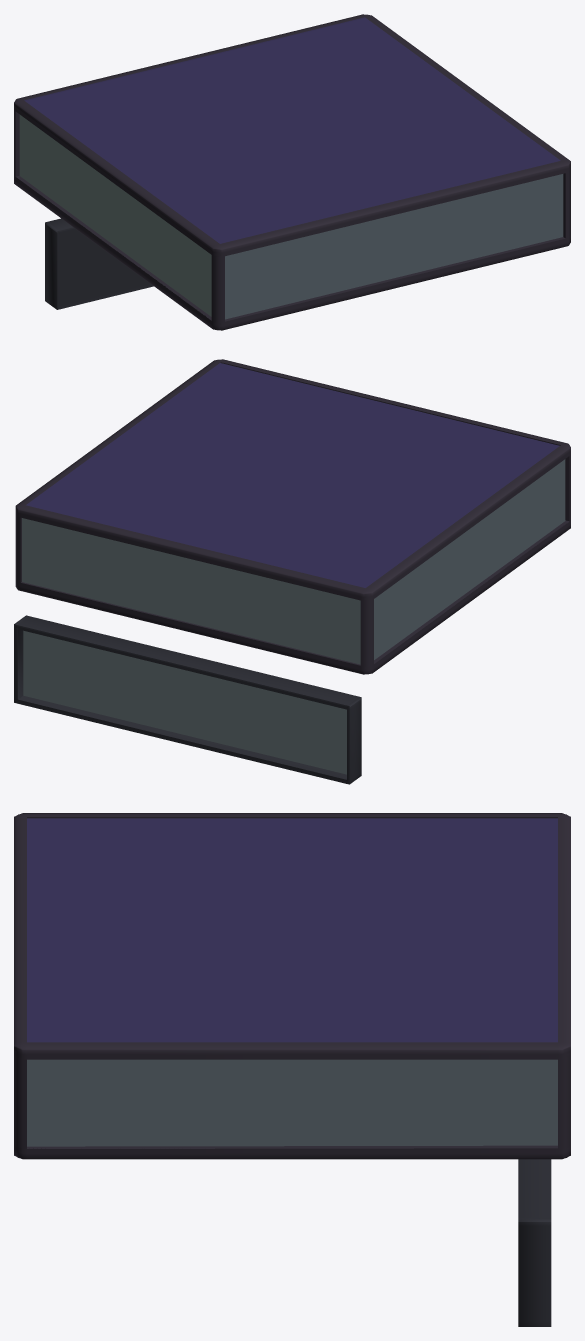
File: compressed_Screens.glb
3 views of the same model, one above another, from view 1: azimuth 30°, elevation 25°; view 2: azimuth 150°, elevation 25°; view 3: azimuth 270°, elevation 25° (orthographic). The views are drawn at different scales.
Parts seen in each view (by area): view 1: RoofExtension2, RoofExtension2.01, StockScreen; view 2: RoofExtension2, StockScreen.002, RoofExtension2.01, StockScreen; view 3: RoofExtension2, RoofExtension2.01, StockScreen.
Boxes of the visible parts, <box> form: RoofExtension2: <box>19,17,563,319</box>; RoofExtension2.01: <box>14,14,570,330</box>; StockScreen: <box>45,218,153,309</box>; RoofExtension2: <box>22,363,565,664</box>; StockScreen.002: <box>23,630,346,774</box>; RoofExtension2.01: <box>15,359,570,674</box>; StockScreen: <box>14,615,361,784</box>; RoofExtension2: <box>27,818,557,1146</box>; RoofExtension2.01: <box>14,813,570,1159</box>; StockScreen: <box>518,1159,551,1326</box>.
Size of the model in its own units: 9.37 by 5.01 by 9.18.
